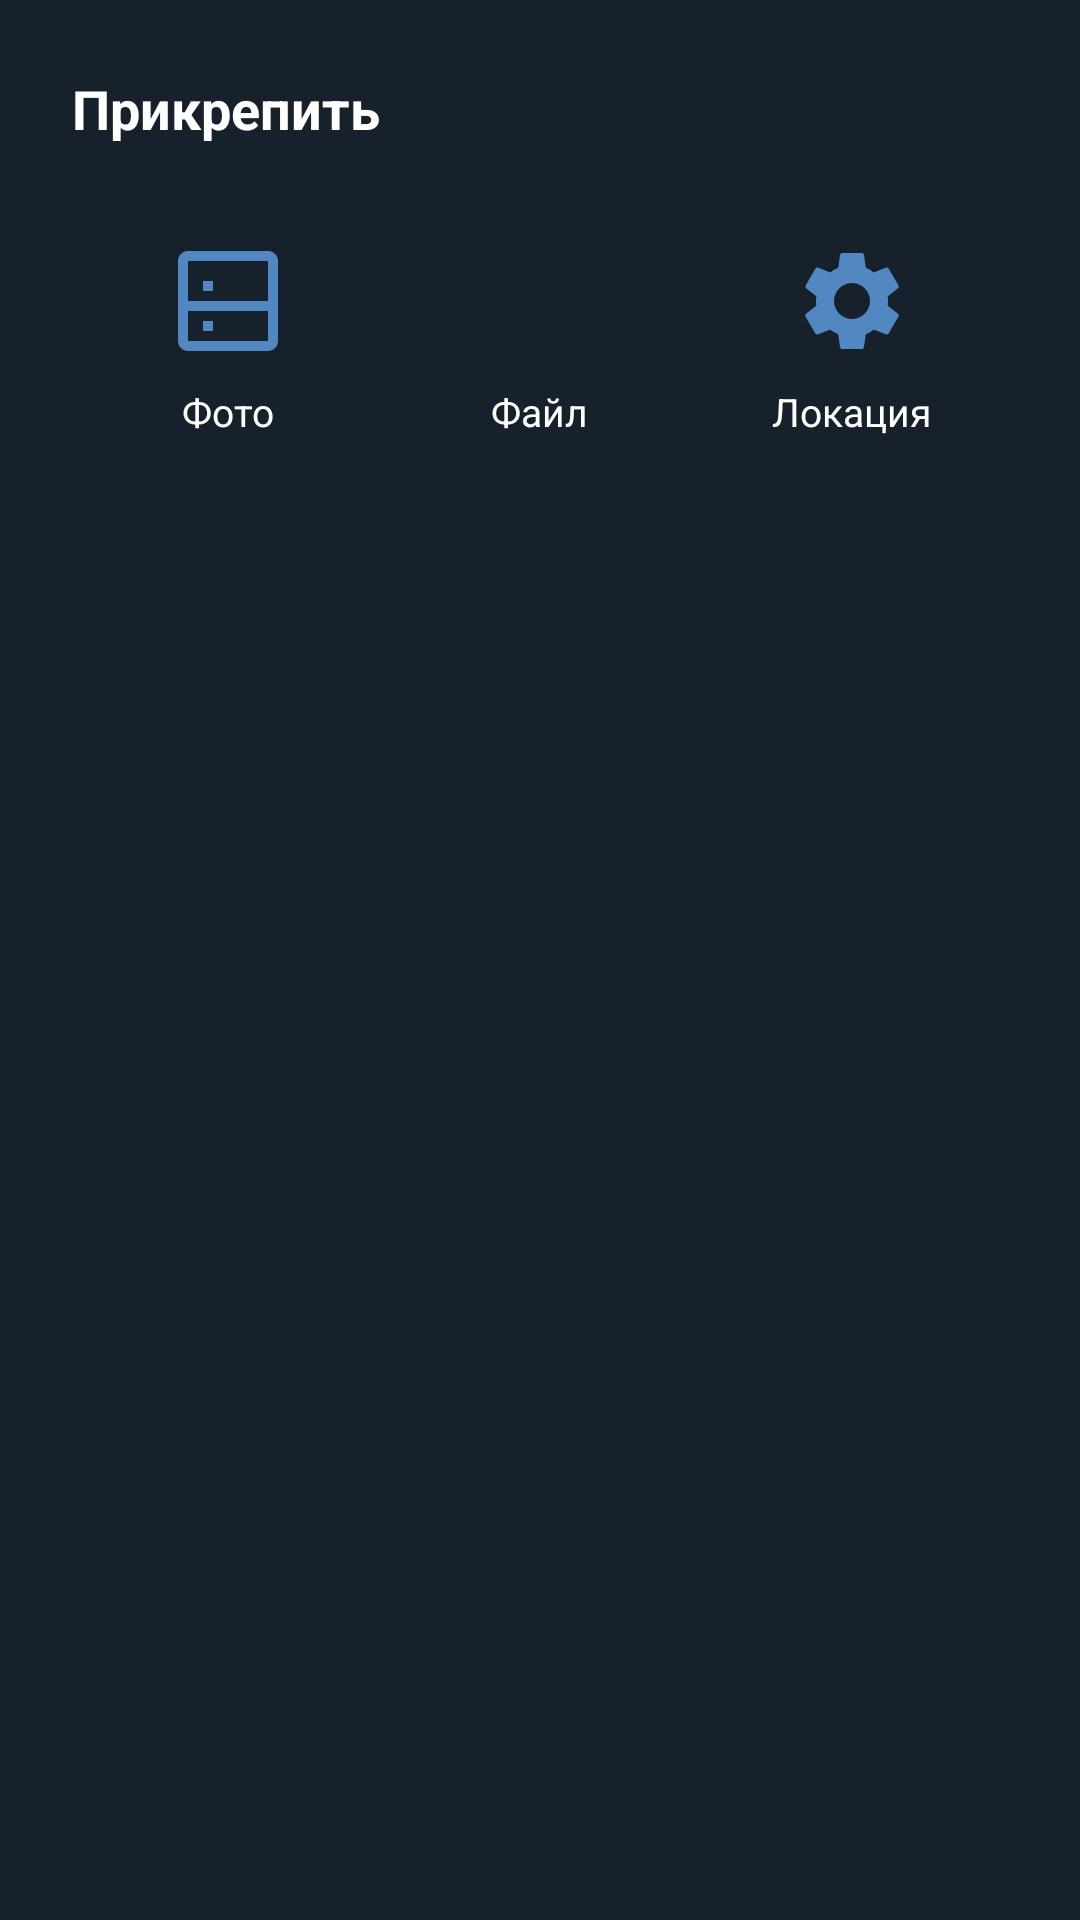

Icons on this 1080*1920 Android screen, each with the point to tap as (x=x, y=y):
settings: (x=852, y=301)
storage: (x=228, y=301)
